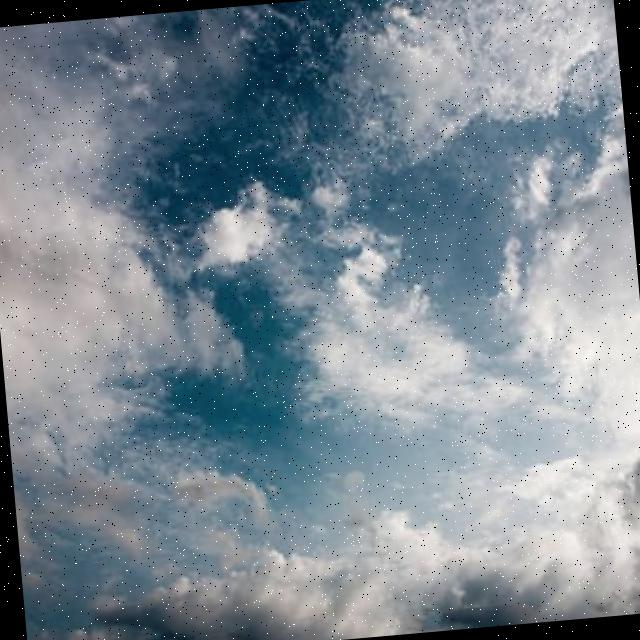Ns: (1, 20, 640, 640)
